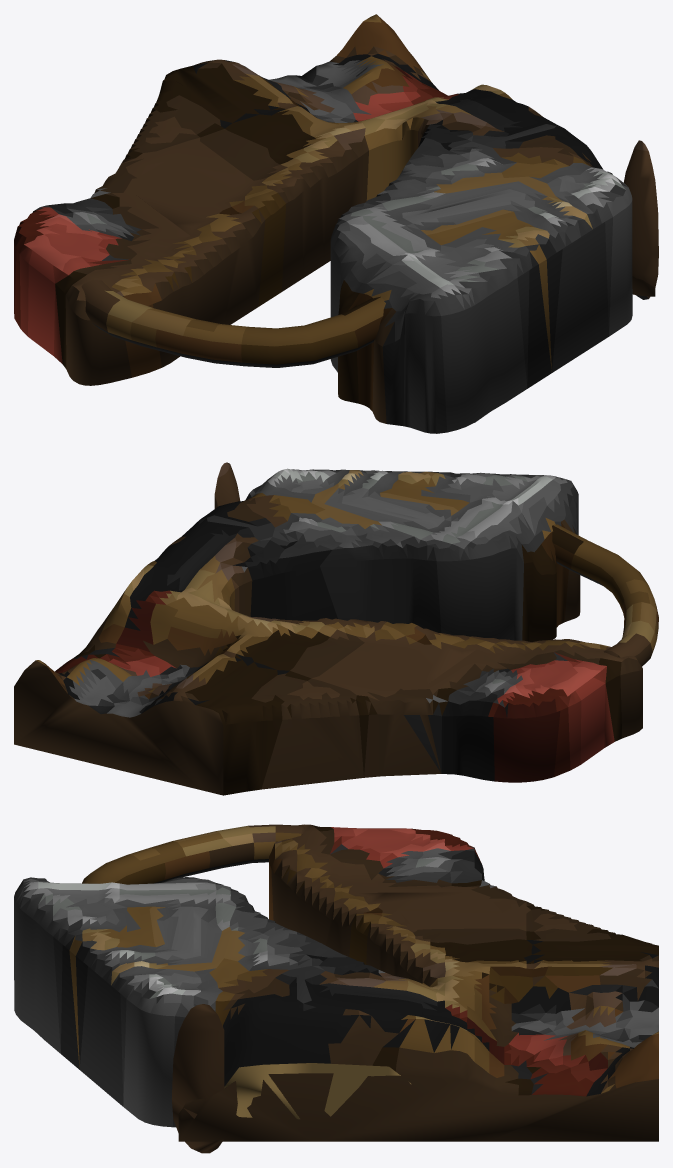
File: tusk_boss_small_119.glb
The picture shows the model from 3 angles, top to bottom: view 1: azimuth 30°, elevation 25°; view 2: azimuth 150°, elevation 25°; view 3: azimuth 270°, elevation 25°; orthographic projection. The views are drawn at different scales.
Visible parts, largest first — view 1: tusk_boss_small_119_plates_small; view 2: tusk_boss_small_119_plates_small; view 3: tusk_boss_small_119_plates_small.
Boxes of the visible parts, x1=… form: tusk_boss_small_119_plates_small: x1=14, y1=14, x2=658, y2=433; tusk_boss_small_119_plates_small: x1=14, y1=462, x2=658, y2=795; tusk_boss_small_119_plates_small: x1=14, y1=824, x2=658, y2=1153.
Size of the model in its own units: 21.19 by 6.14 by 23.98.
